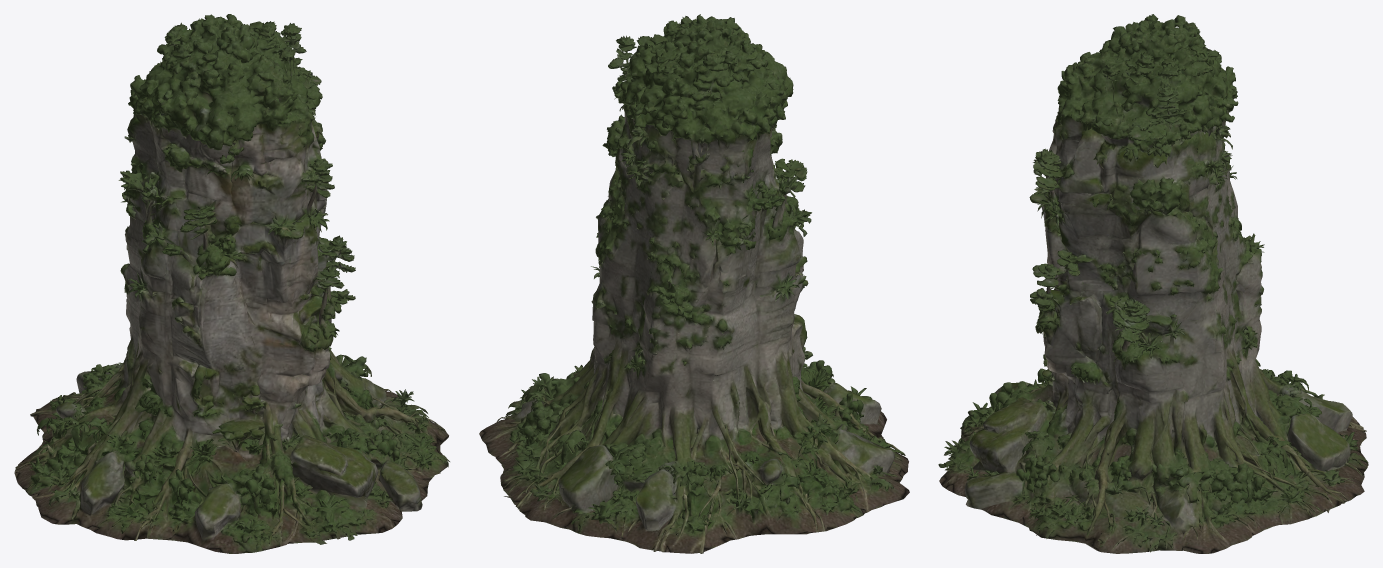
Rendered from av_monolith_mid.glb.
3 renders of one model, left to right at view 1: azimuth 30°, elevation 25°; view 2: azimuth 150°, elevation 25°; view 3: azimuth 270°, elevation 25°, orthographic. The views are drawn at different scales.
Visible parts, largest first — view 1: av_monolith; view 2: av_monolith; view 3: av_monolith.
Boxes of the visible parts, <box> form: av_monolith: <box>14,14,449,553</box>; av_monolith: <box>479,14,909,553</box>; av_monolith: <box>938,14,1368,553</box>.
Size of the model in its own units: 1.76 by 1.9 by 1.7.
1 material, 1 textured.
